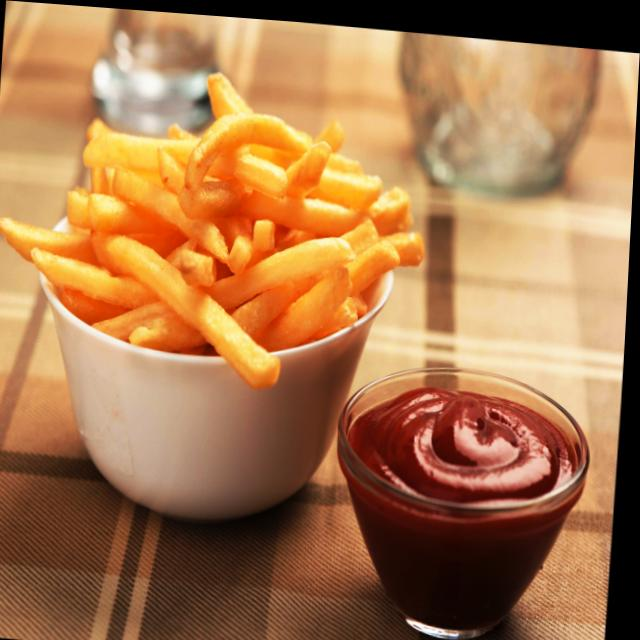french fries: (0, 46, 435, 399)
ketchup: (326, 364, 586, 640)
